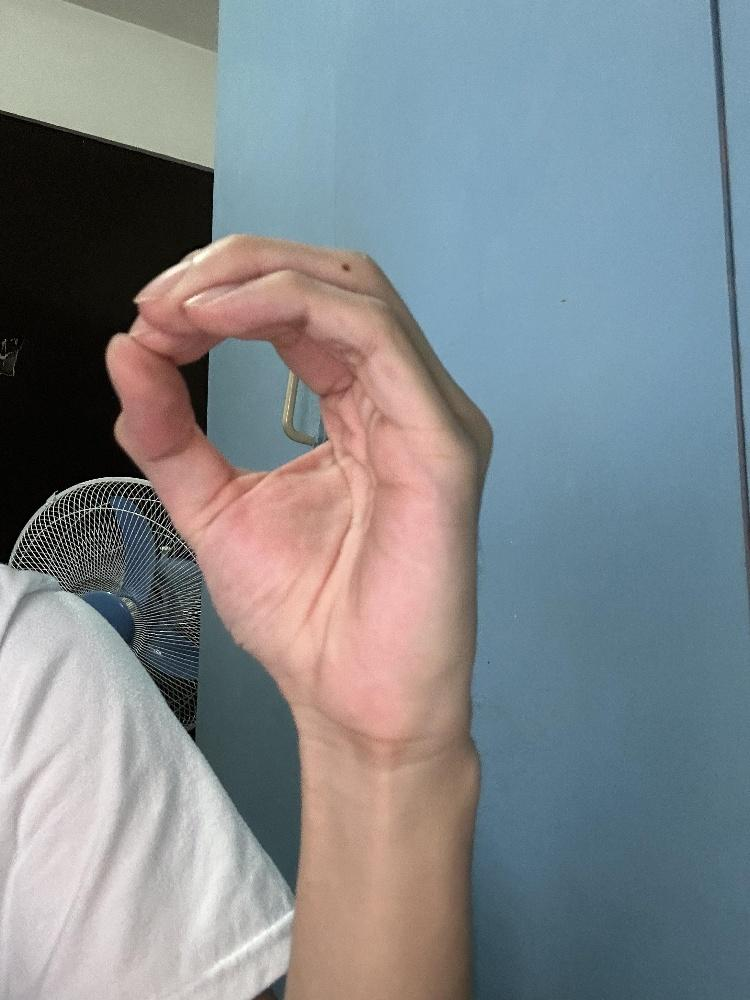o: (102, 229, 498, 753)
